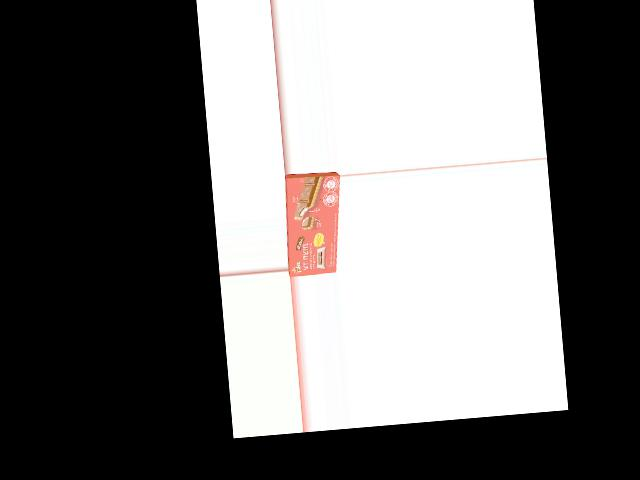chocolate: (284, 171, 342, 277)
